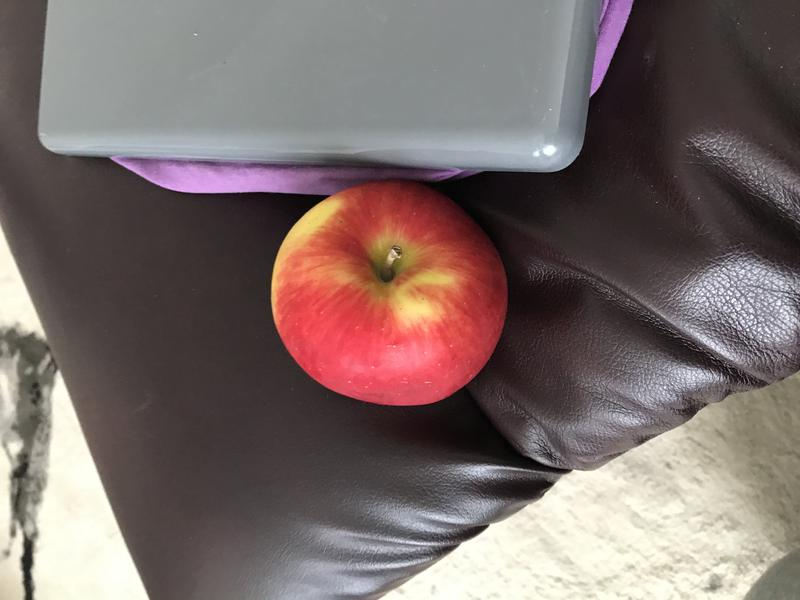red_apple: (259, 170, 518, 420)
